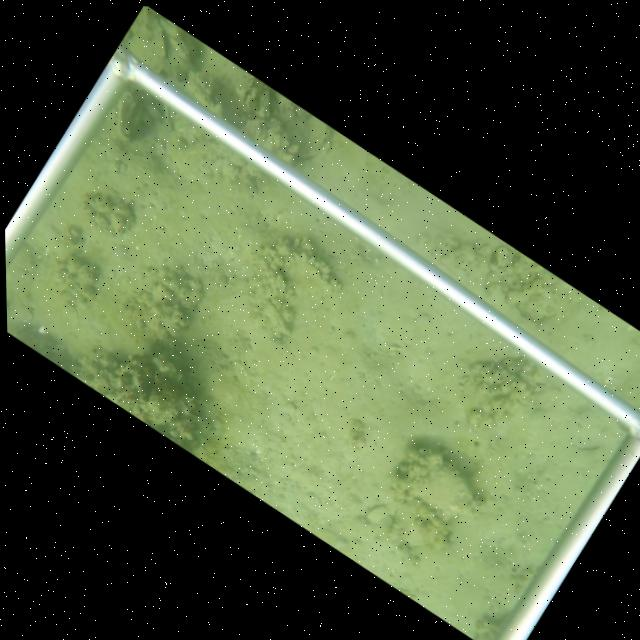Oyster-Closed: (399, 448, 477, 516), (115, 89, 134, 145)
